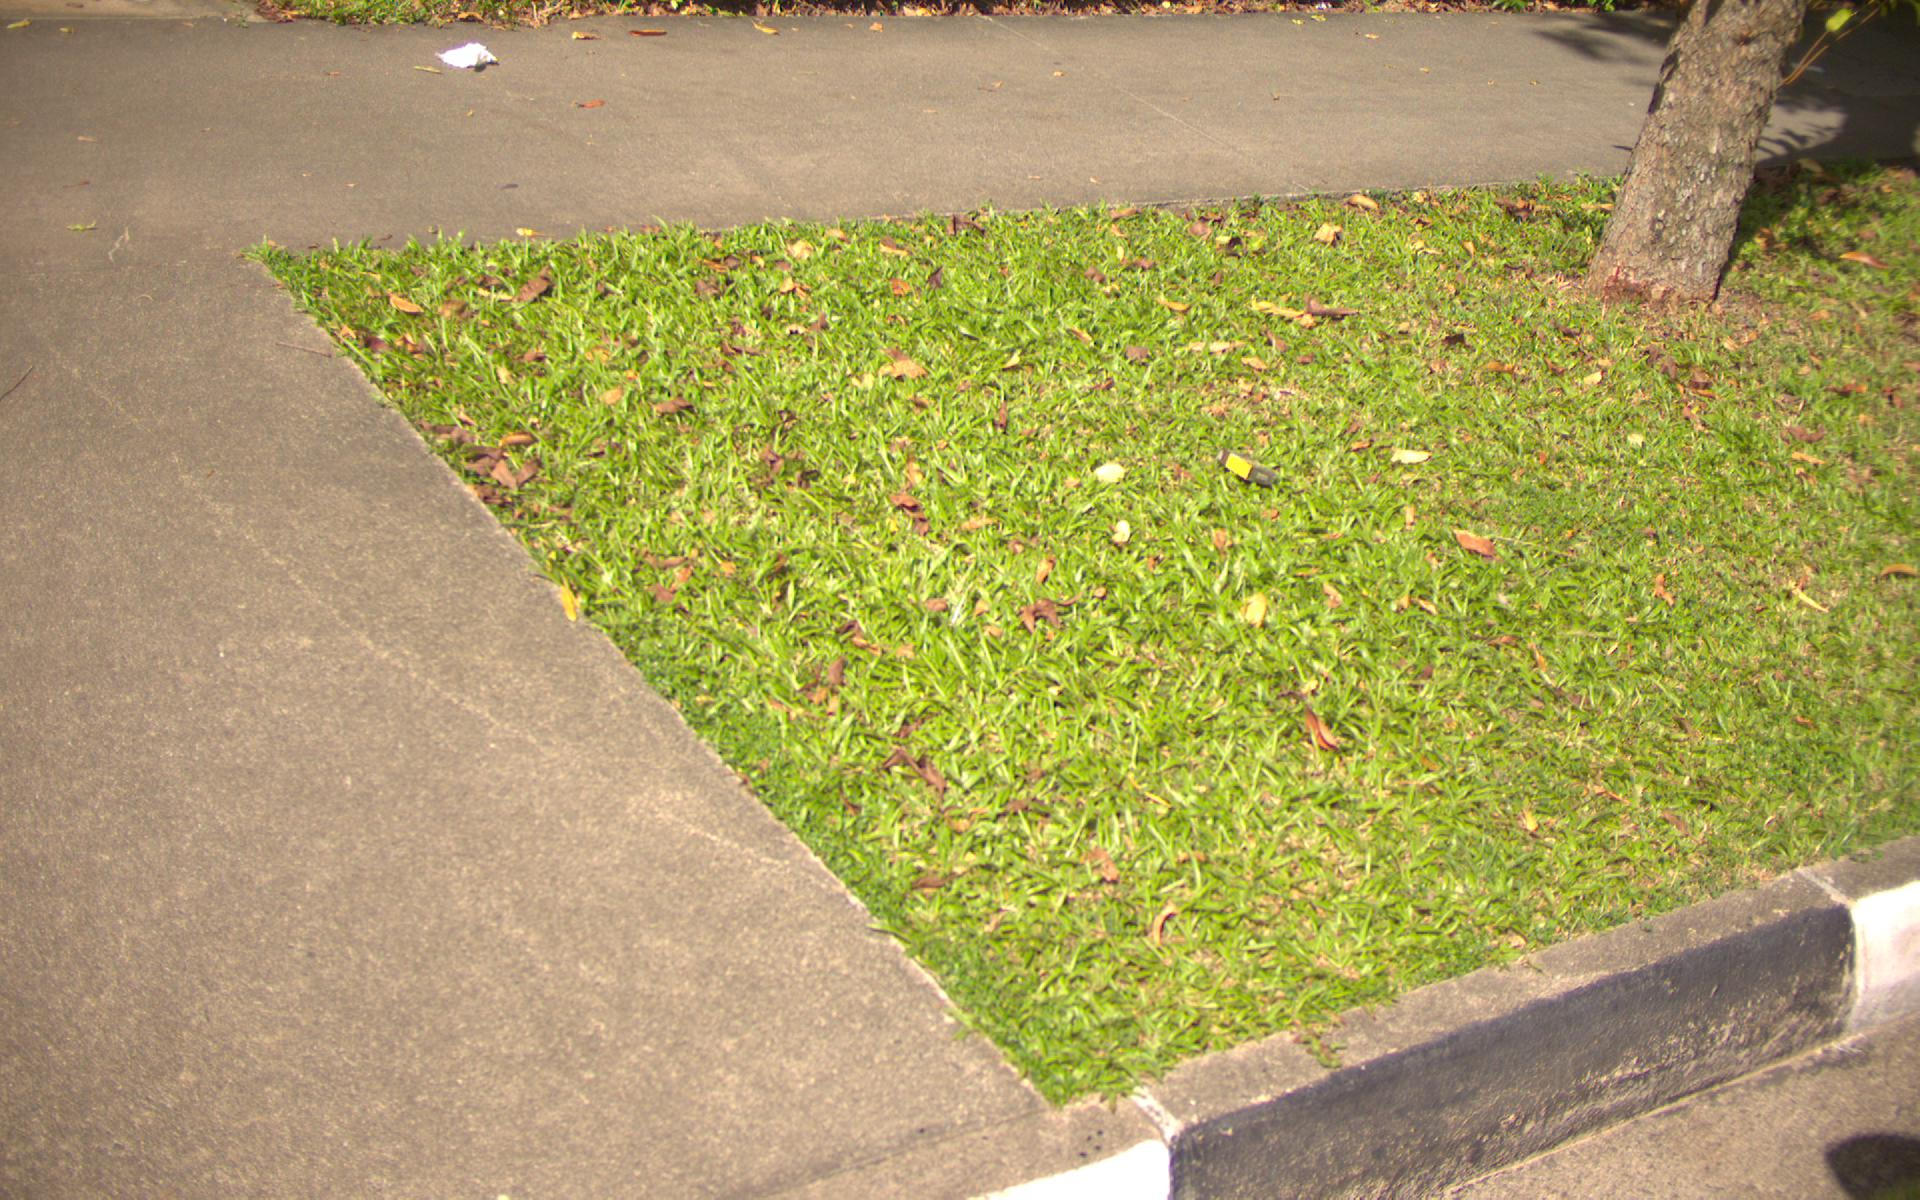pathway_low: (4, 17, 1621, 187)
road_turf_low: (1046, 236, 1920, 841)
